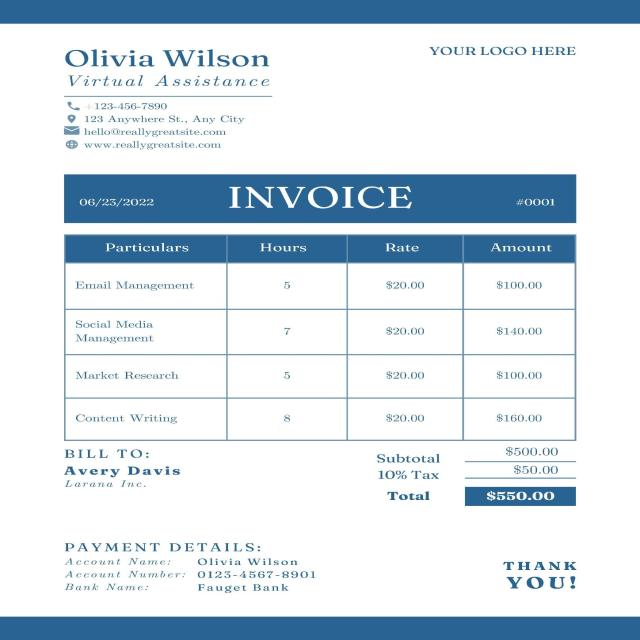paragraph: (60, 536, 320, 606), (367, 447, 600, 508), (59, 96, 253, 152), (57, 47, 280, 87), (61, 447, 192, 498), (228, 184, 419, 210), (428, 36, 586, 62), (504, 557, 594, 597), (72, 189, 174, 214), (511, 188, 559, 210)
table: (62, 236, 578, 438)
